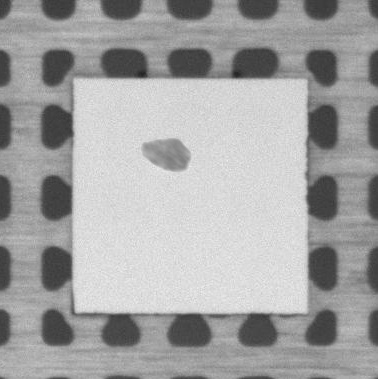DIE_INK: (136, 133, 193, 175)
